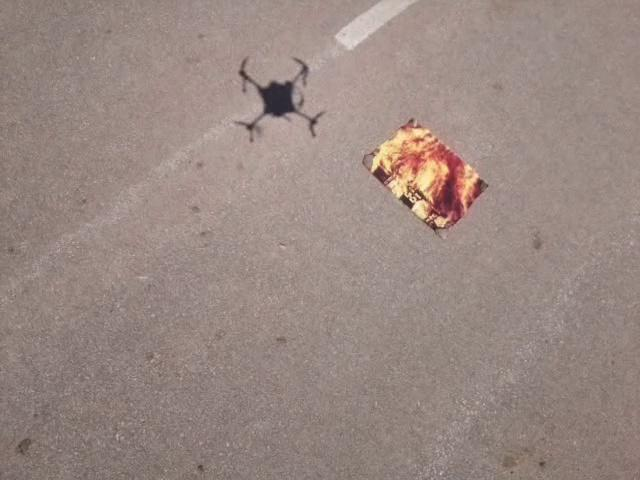fire-poster: (360, 116, 489, 238)
